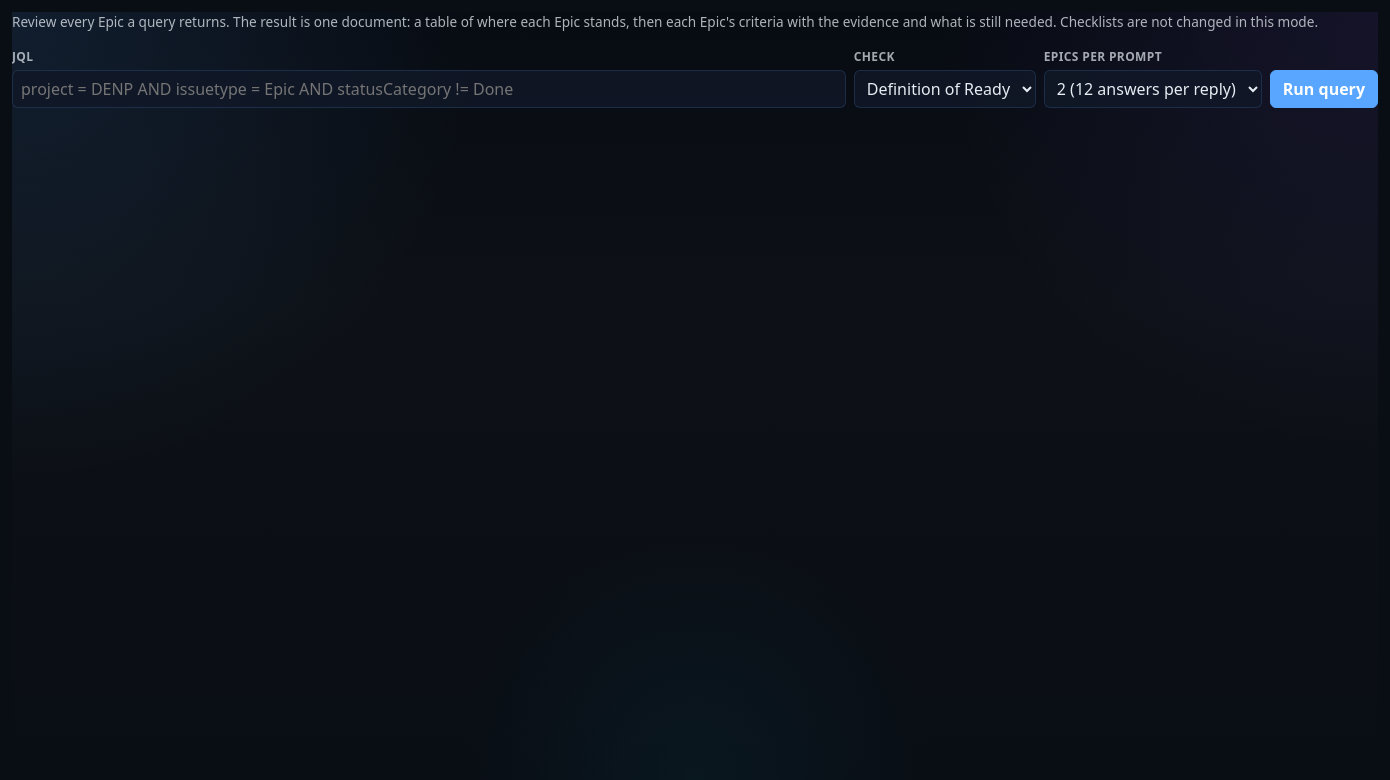
BatchReadinessPanel › refuses an empty query rather than running it
The width and height of the screenshot is (1390, 780).
Click the button "Run query".
click(1324, 89)  # box x1=1270 y1=70 x2=1378 y2=108
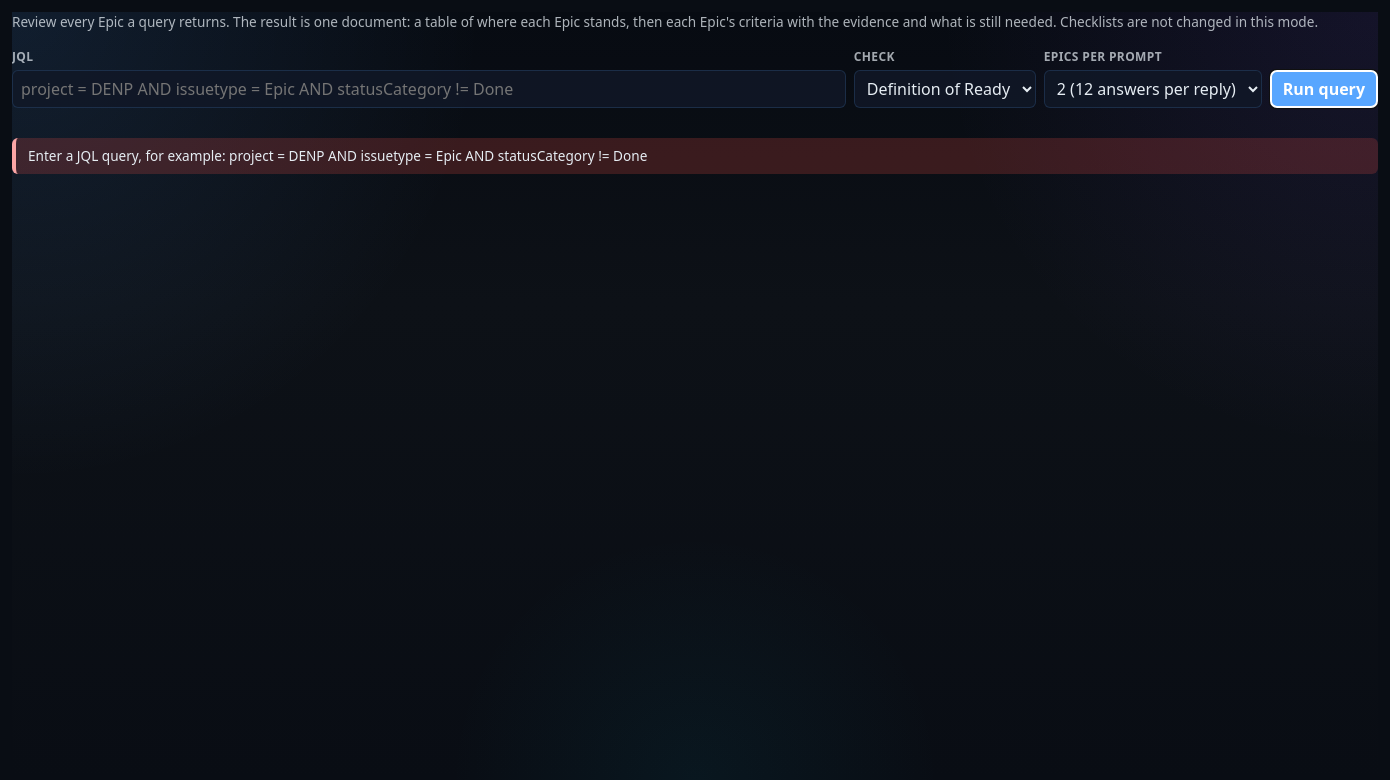
Now the message shows "Enter a JQL query", box x1=28 y1=146 x2=647 y2=165
